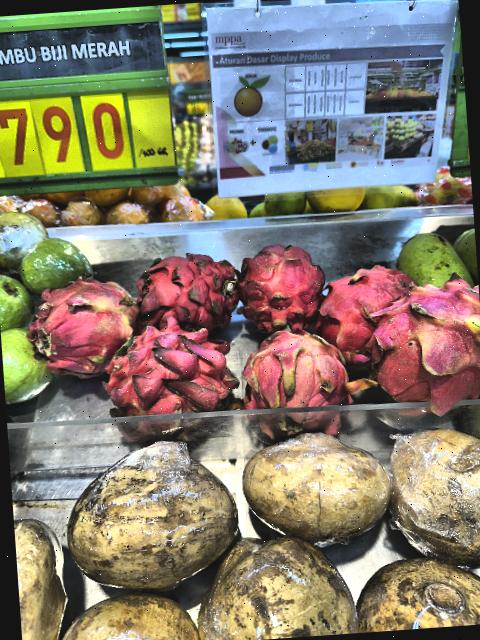buah-naga-belum-matang: (366, 269, 480, 409), (240, 311, 362, 439), (10, 266, 143, 376)
buah-naga-matang: (96, 324, 244, 442), (128, 242, 244, 338), (229, 240, 330, 330), (314, 264, 412, 338)
